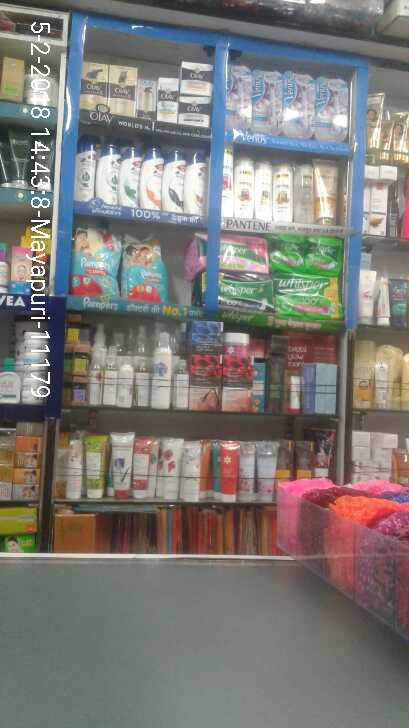venus: (316, 79, 350, 139), (286, 72, 316, 139), (252, 72, 286, 131), (228, 64, 252, 131)
